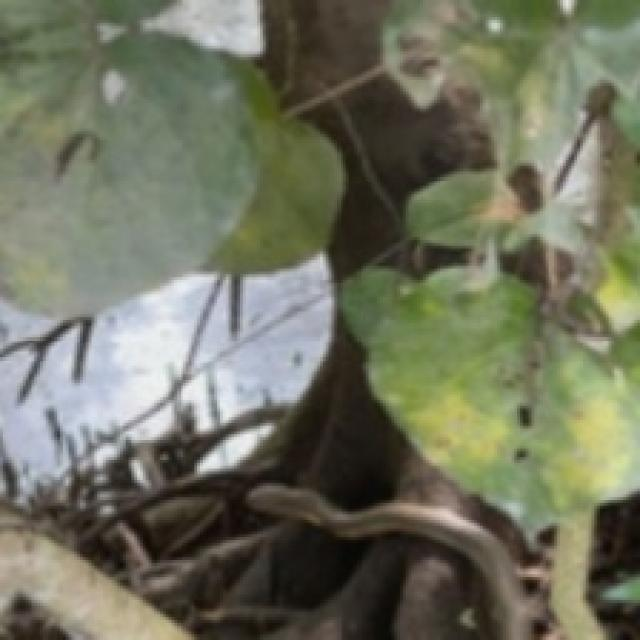king cobra: (246, 484, 530, 639)
